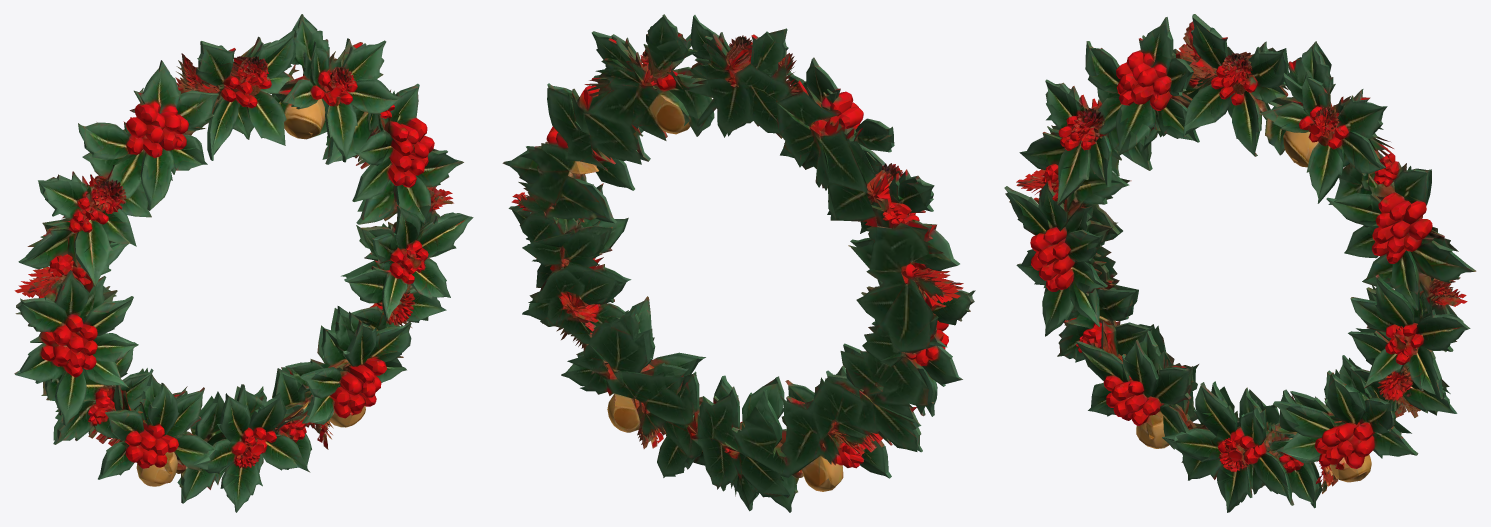
Rendered from holly-crown.glb.
The picture shows the model from 3 angles, left to right: view 1: azimuth 30°, elevation 25°; view 2: azimuth 150°, elevation 25°; view 3: azimuth 330°, elevation 25°; orthographic projection. The views are drawn at different scales.
Bounding box in the file's own units: 5.67 × 5.69 × 0.5697.
1 material, 1 textured.
